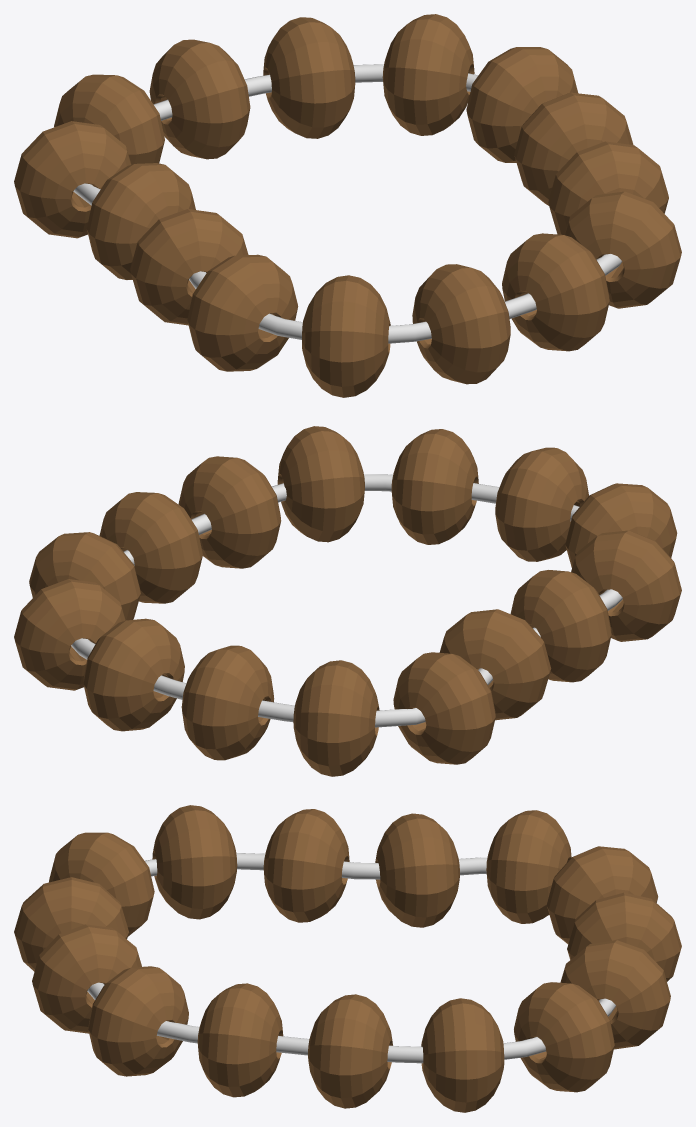
The model's file is Bracelet.fbx.
3 renders of one model, top to bottom at view 1: azimuth 30°, elevation 25°; view 2: azimuth 150°, elevation 25°; view 3: azimuth 270°, elevation 25°, orthographic. The views are drawn at different scales.
Parts seen in each view (by area): view 1: Bracelet_Beads, Bracelet_String; view 2: Bracelet_Beads, Bracelet_String; view 3: Bracelet_Beads, Bracelet_String.
Boxes of the visible parts, box(x1,y1,x2,y2) form: Bracelet_Beads: box(14, 14, 681, 397); Bracelet_String: box(73, 64, 622, 343); Bracelet_Beads: box(14, 426, 681, 776); Bracelet_String: box(71, 474, 622, 727); Bracelet_Beads: box(14, 805, 681, 1112); Bracelet_String: box(87, 853, 615, 1063).
Bounding box in the file's own units: 13.02 × 2.62 × 15.22.
